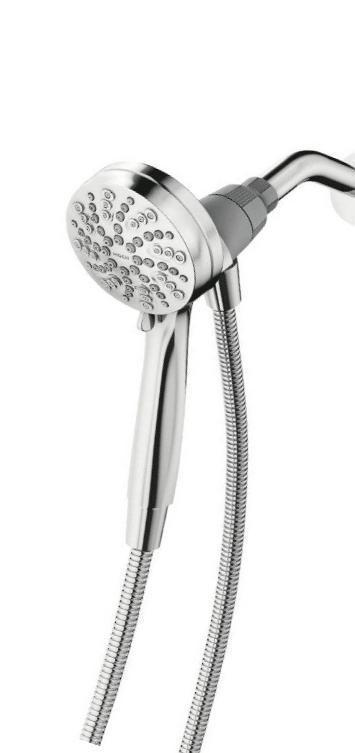Ducha: (65, 82, 354, 752)
